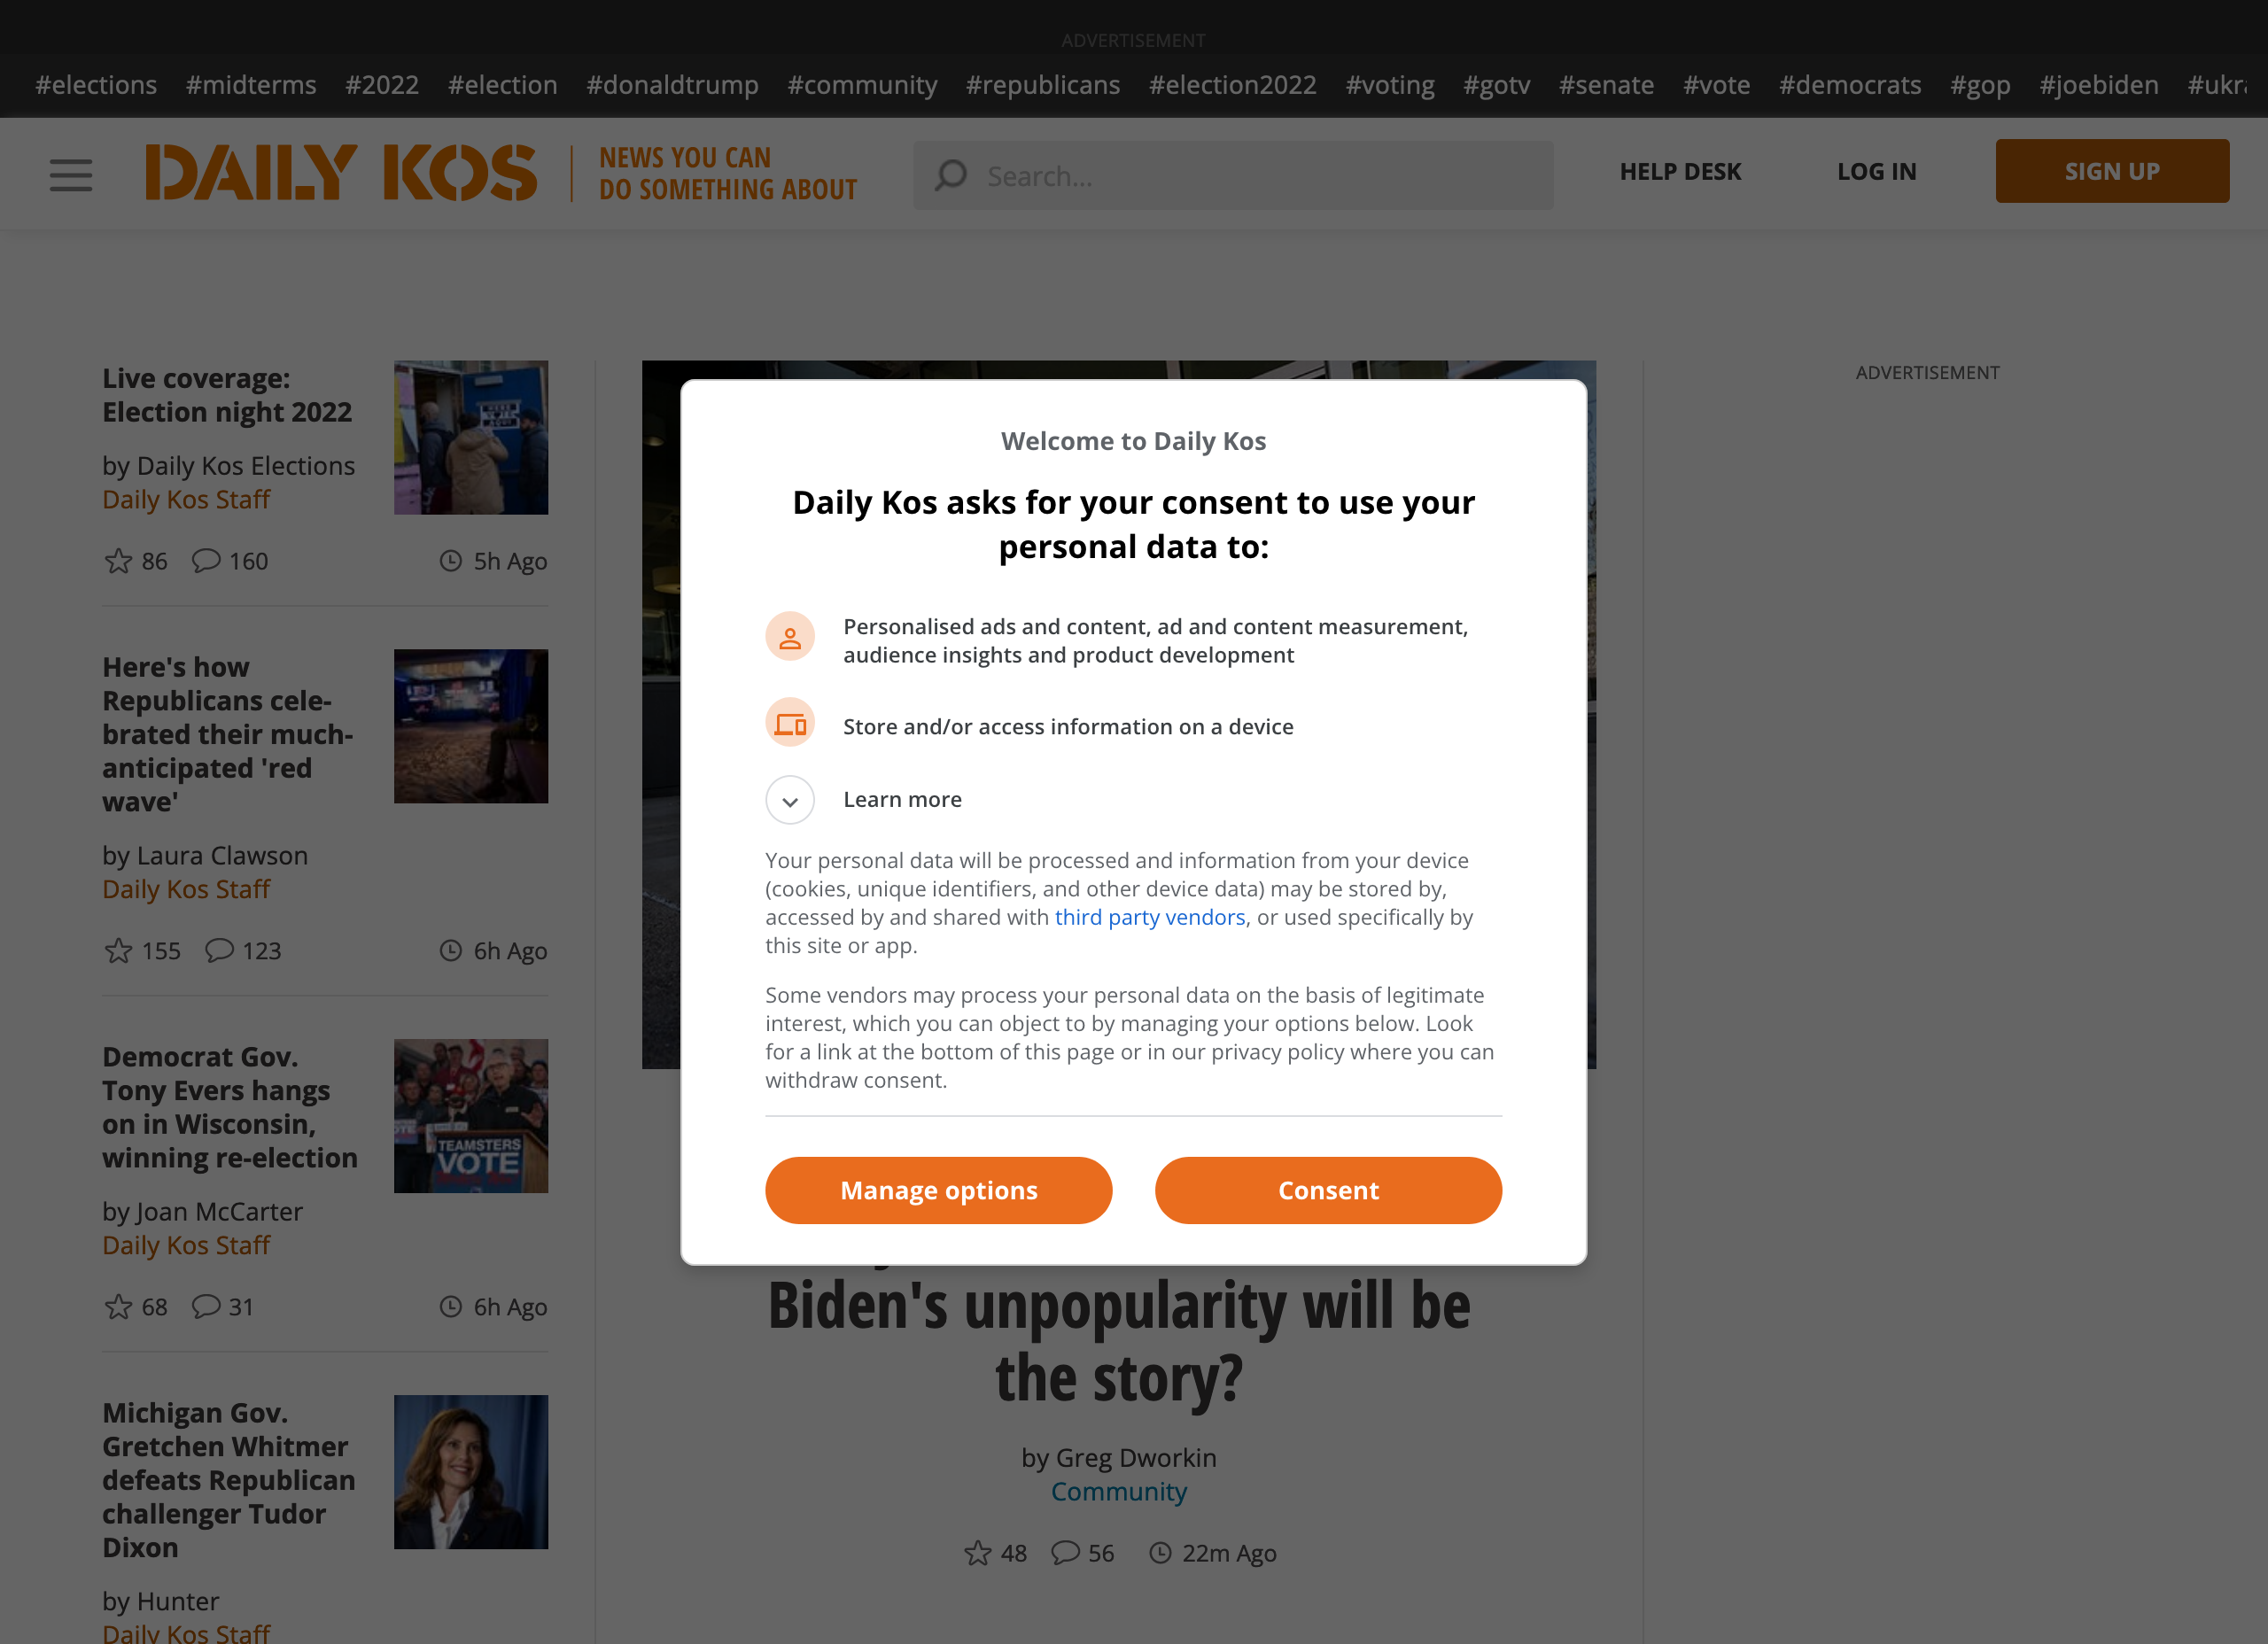Login: (1819, 139, 1940, 201)
